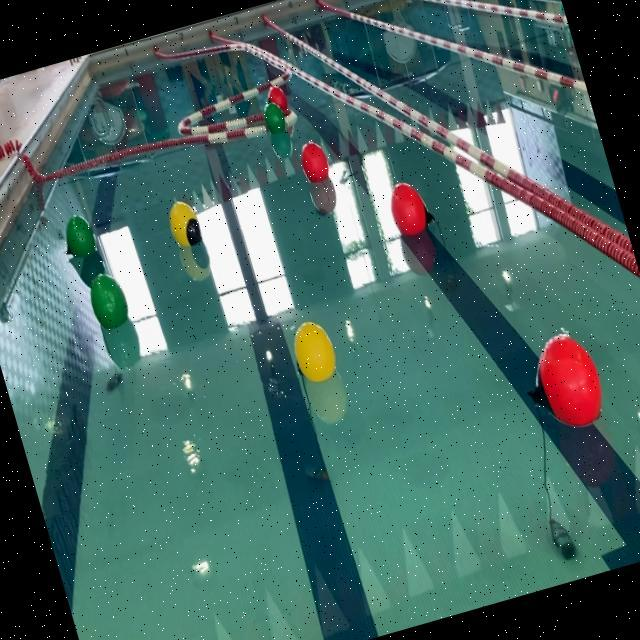buoy: (518, 324, 613, 438), (287, 316, 340, 385), (384, 173, 438, 240), (84, 268, 132, 332), (57, 210, 101, 264), (165, 196, 206, 252), (298, 138, 334, 186), (258, 102, 288, 140), (264, 82, 288, 113)
